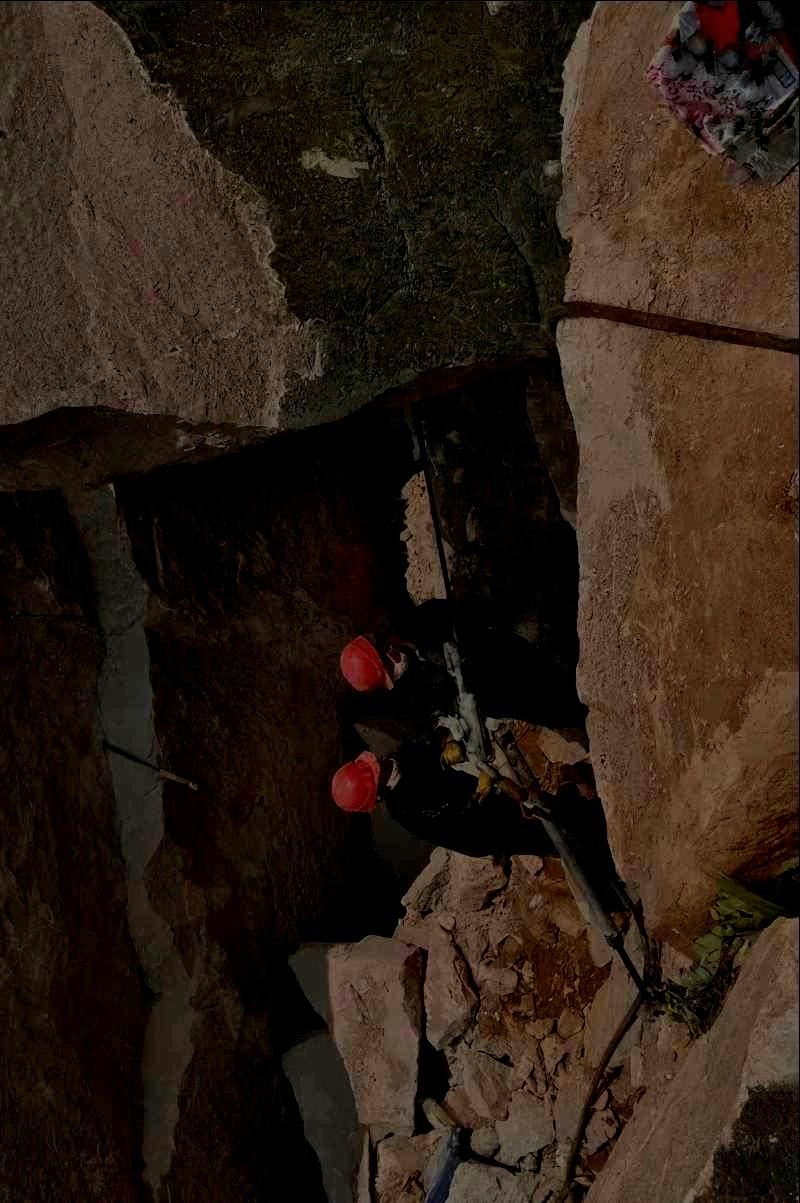helmet: (330, 750, 401, 813), (338, 632, 410, 691)
